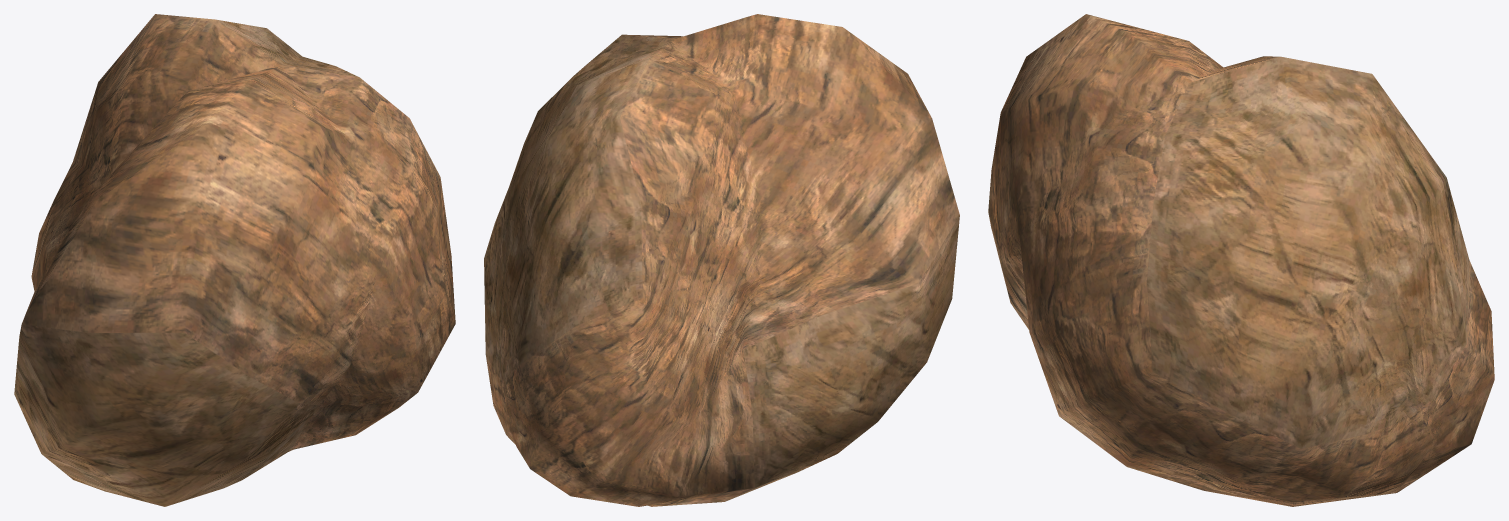
File: rock_tatt_bensmesa_boulder_a2_l0.fbx
3 renders of one model, left to right at view 1: azimuth 30°, elevation 25°; view 2: azimuth 150°, elevation 25°; view 3: azimuth 270°, elevation 25°, orthographic. The views are drawn at different scales.
Visible parts, largest first — view 1: mesh_node; view 2: mesh_node; view 3: mesh_node.
Boxes of the visible parts, bbox=[...] form: mesh_node: bbox=[14, 14, 455, 506]; mesh_node: bbox=[484, 14, 959, 506]; mesh_node: bbox=[988, 14, 1494, 506].
Bounding box in the file's own units: 3.14 × 3.23 × 3.31.
